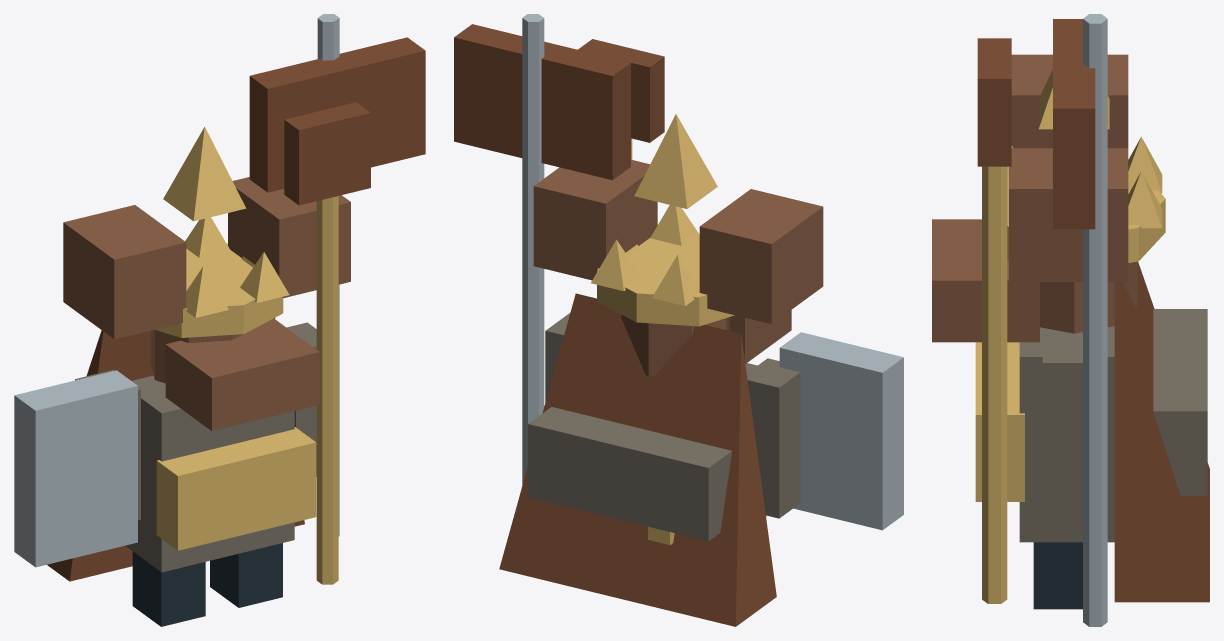
File: healer.obj
3 renders of one model, left to right at view 1: azimuth 30°, elevation 25°; view 2: azimuth 150°, elevation 25°; view 3: azimuth 270°, elevation 25°, orthographic. The views are drawn at different scales.
Parts seen in each view (by area): view 1: hero; view 2: hero; view 3: hero.
Part boxes in pixels (x1=…): hero: x1=14, y1=14, x2=425, y2=626; hero: x1=454, y1=14, x2=903, y2=626; hero: x1=932, y1=14, x2=1209, y2=626.
Size of the model in its own units: 1.94 by 2.45 by 0.9774.
